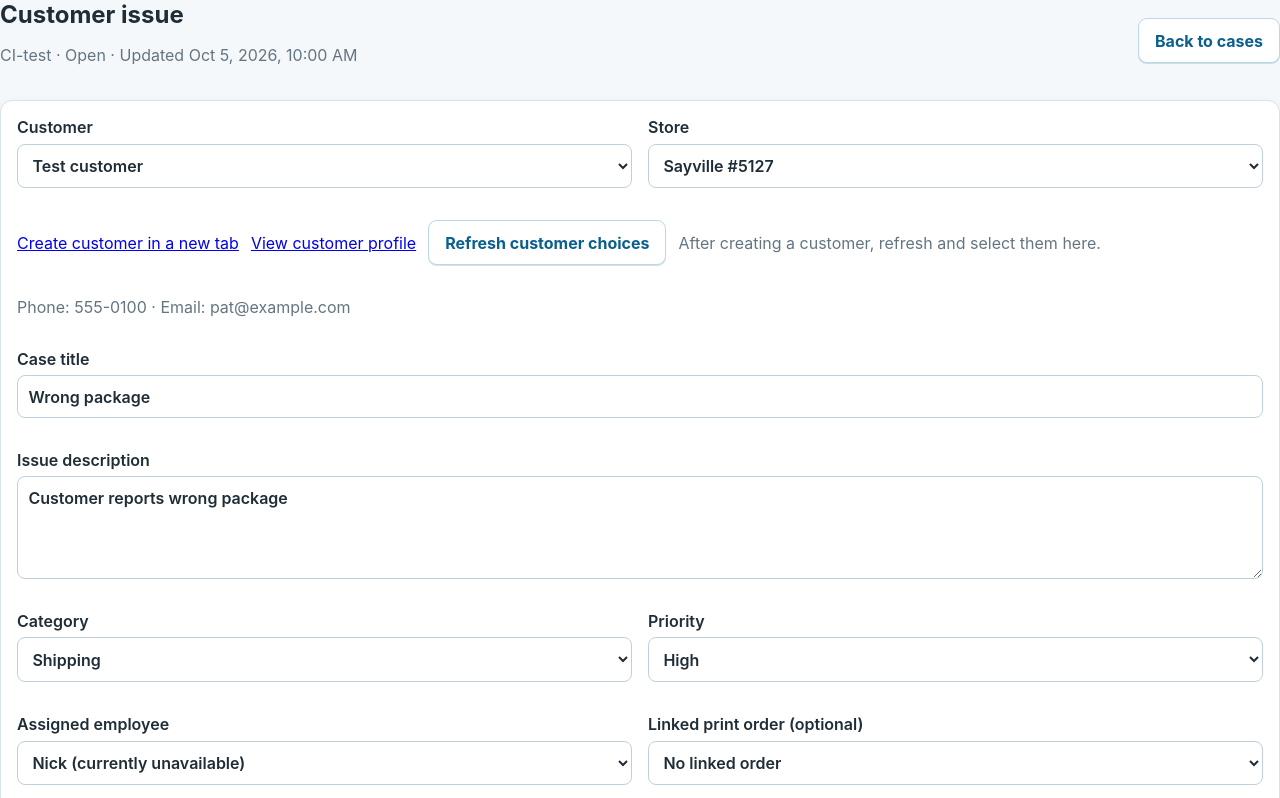
Test: keeps unsaved text on a version conflict and offers review
Replace the text in the field labelled "Case title" with "My unsaved title": (640, 396) [17,375,1263,418]
(page scrolled)
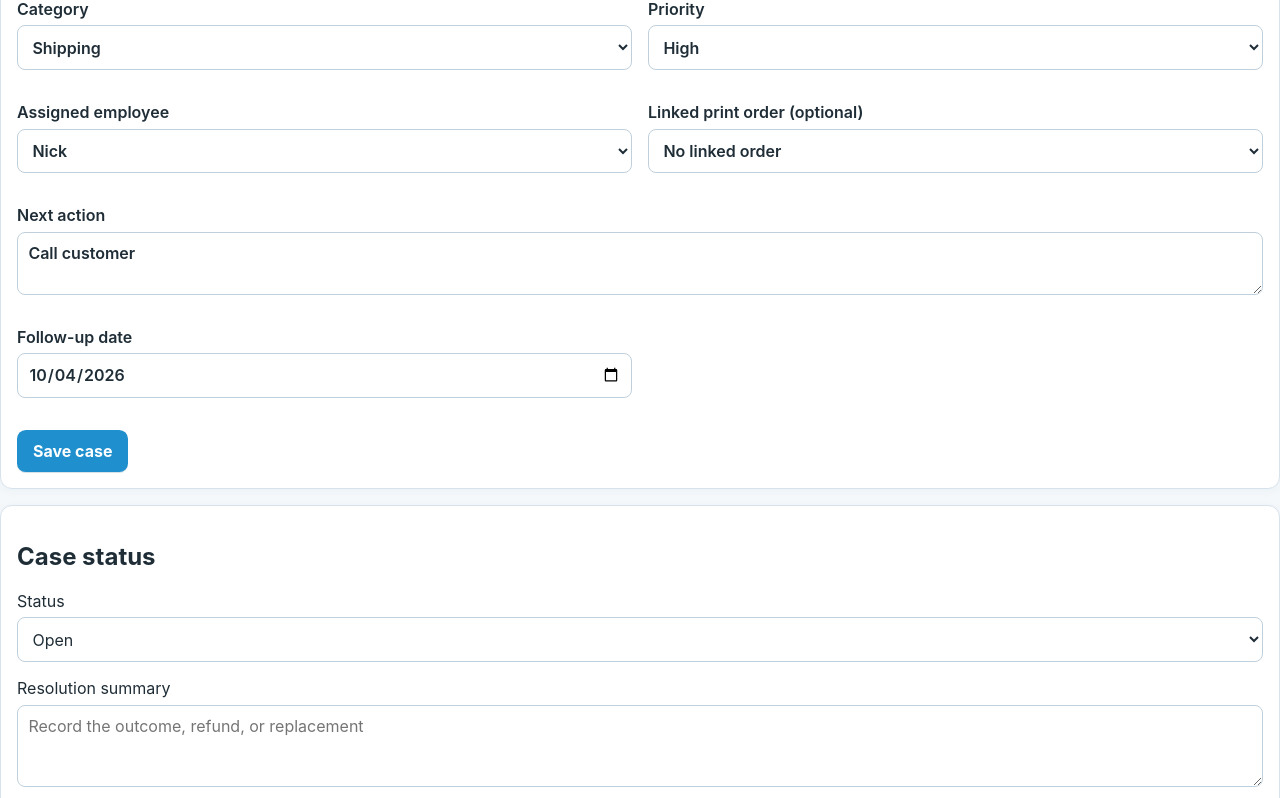
Click the button "Save case": (73, 451) [17,430,128,472]
(page scrolled)
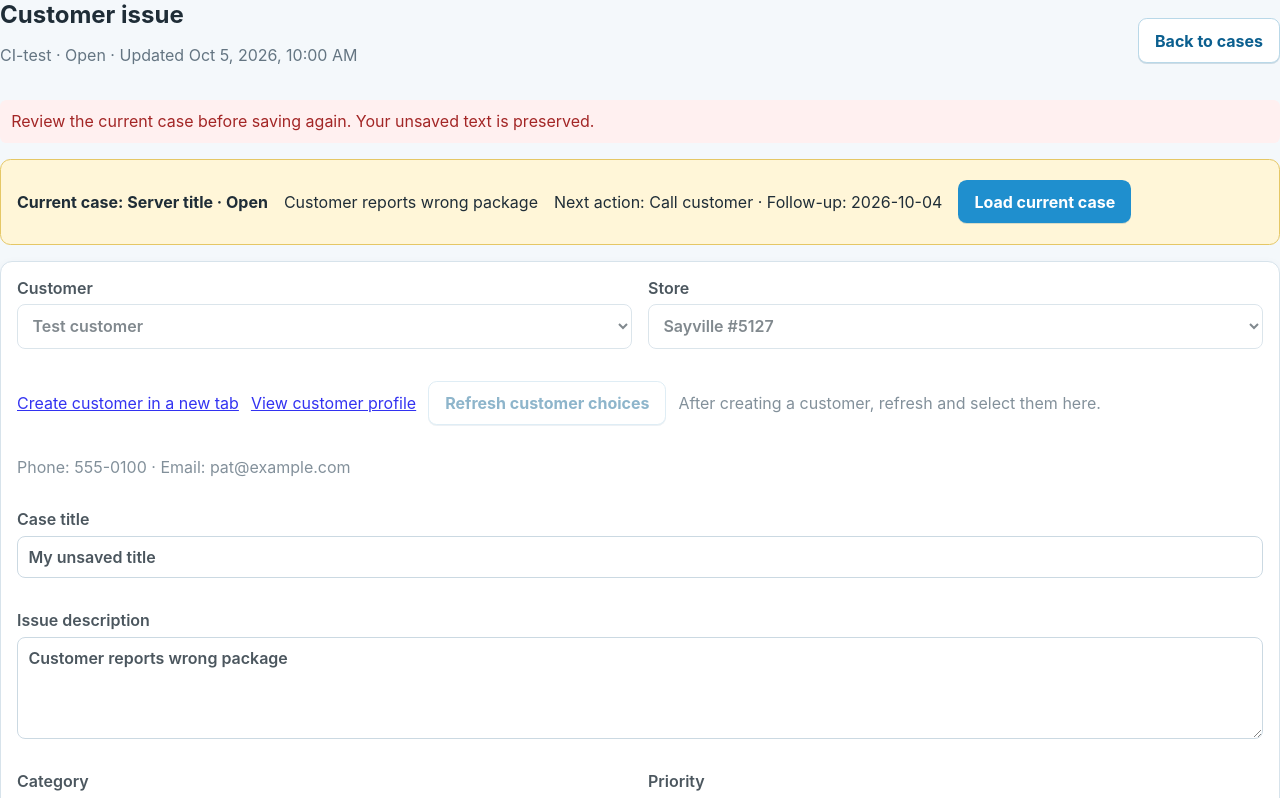
Result: the text "Review the current case before saving again. Your unsaved text is preserved." is shown at [0,100,1279,143]
Click the button "Load current case": (1045, 202) [958,180,1131,223]
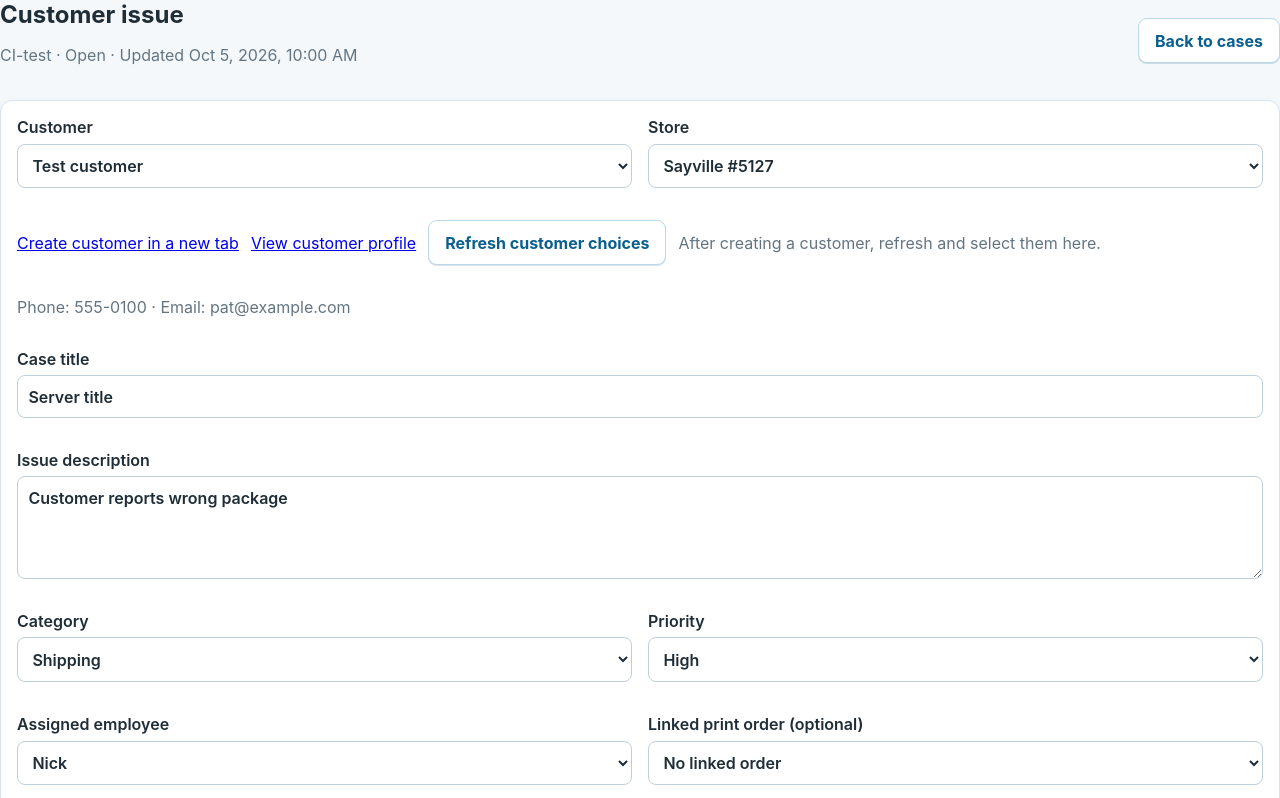
Result: the field showing "Server title" is shown at [17,375,1263,418]
